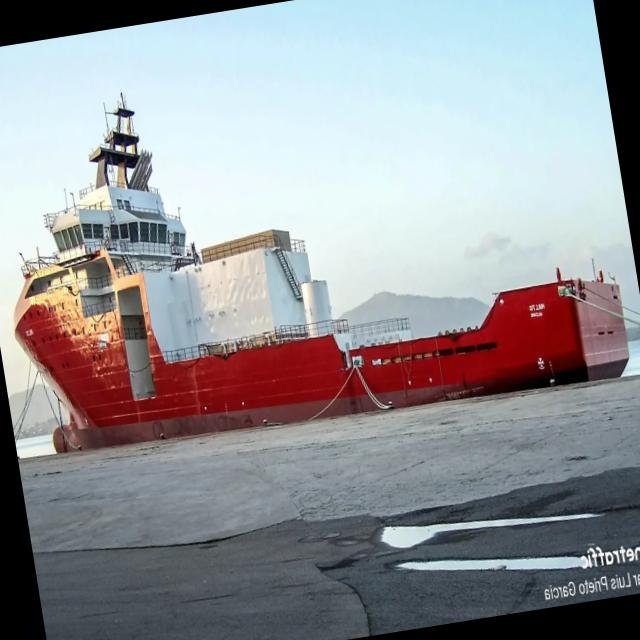Offshore: (14, 94, 629, 452)
